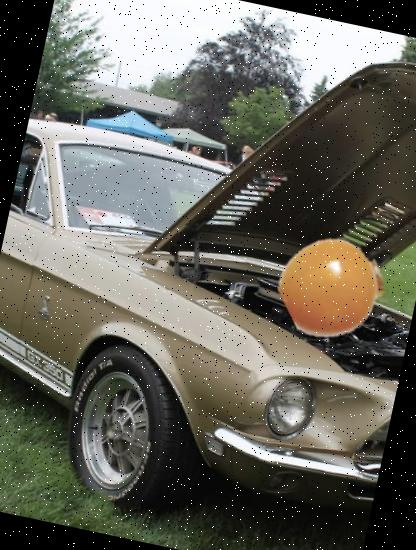Physalis: (272, 226, 394, 349)
